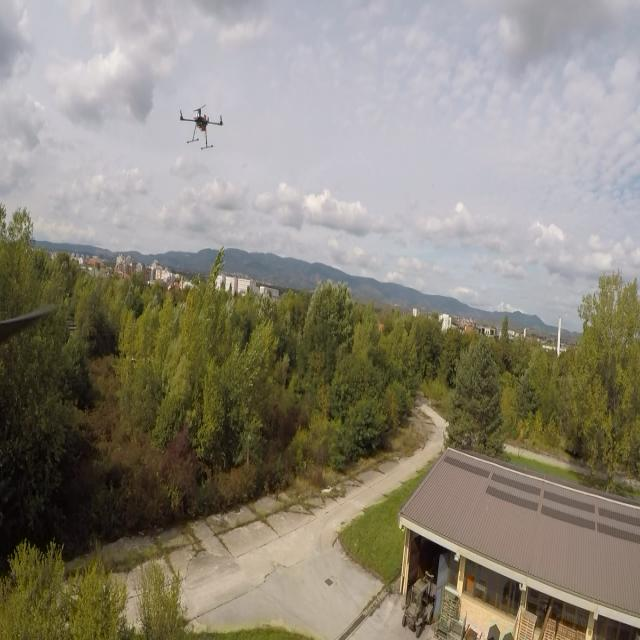UAV: (173, 95, 229, 153)
